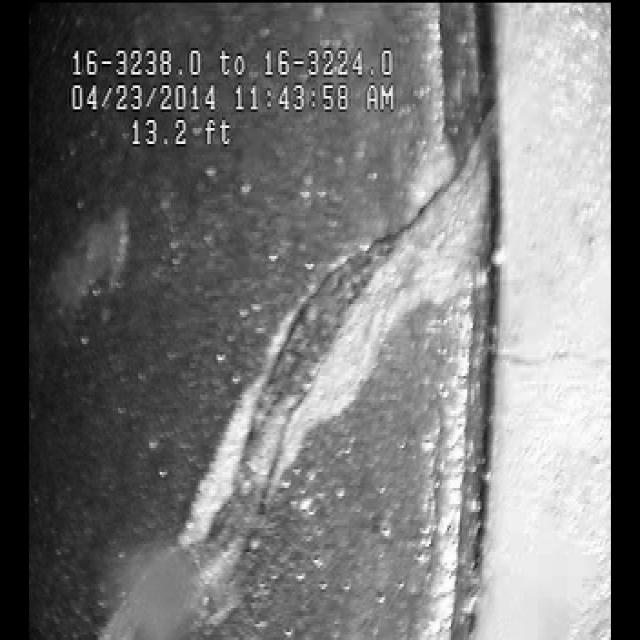Crack: (180, 158, 496, 580)
